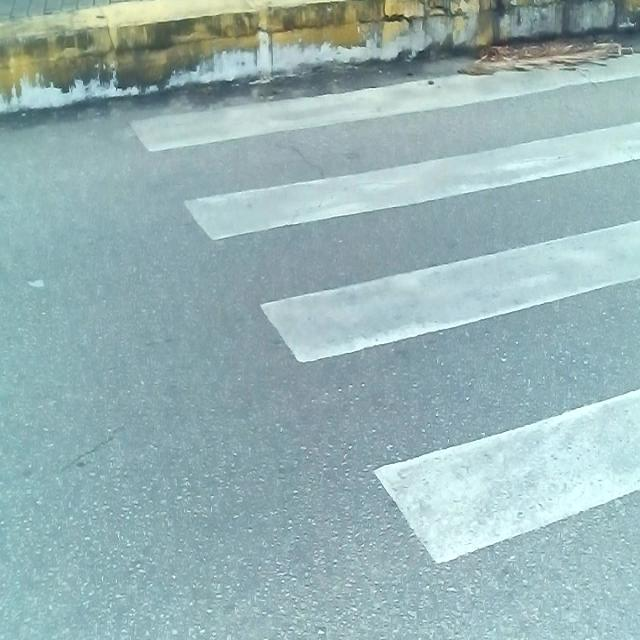crosswalk: (106, 34, 640, 640)
